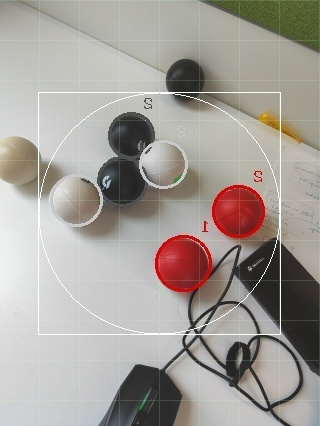Pelota blanca: (239, 334, 305, 411), (47, 172, 105, 227), (138, 137, 191, 190), (0, 134, 41, 184), (271, 385, 320, 425)
Pelota negra: (101, 363, 183, 425), (98, 156, 148, 206), (109, 110, 156, 158), (165, 57, 207, 94)
Pelota roja: (154, 233, 214, 294), (210, 182, 268, 240)
